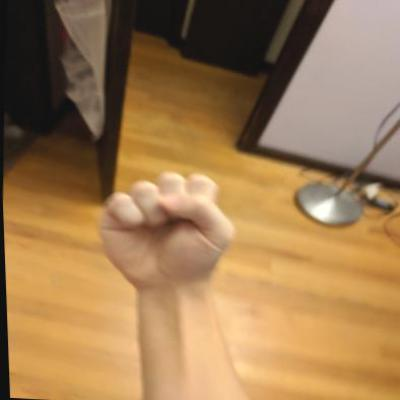hand: (79, 162, 243, 300)
